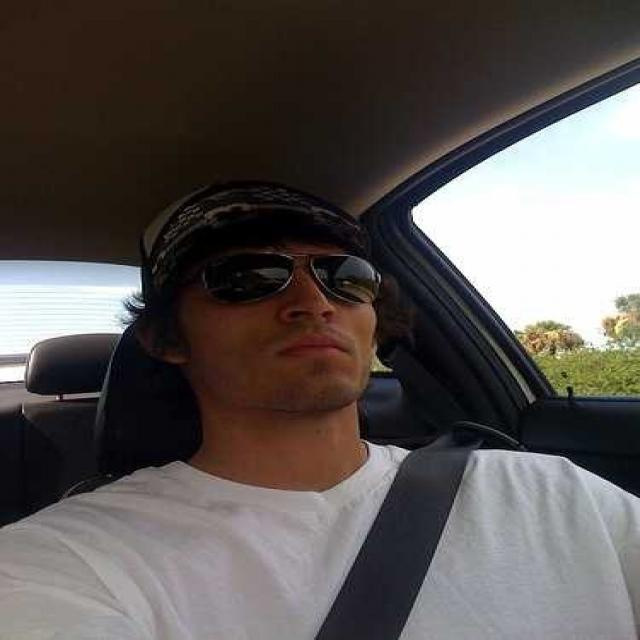seatbelt: (318, 364, 522, 636)
